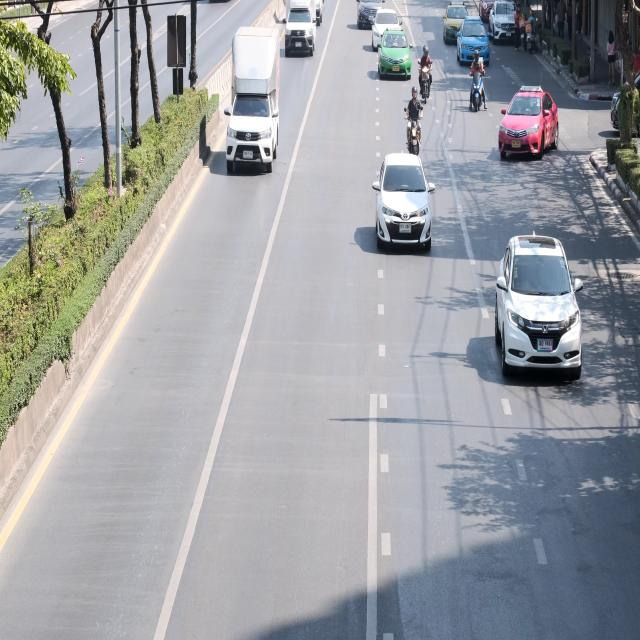cars: (485, 214, 596, 398), (223, 26, 286, 180), (370, 155, 445, 257), (496, 78, 566, 174), (282, 0, 323, 73), (378, 24, 410, 96), (353, 0, 391, 49), (372, 3, 407, 56)
